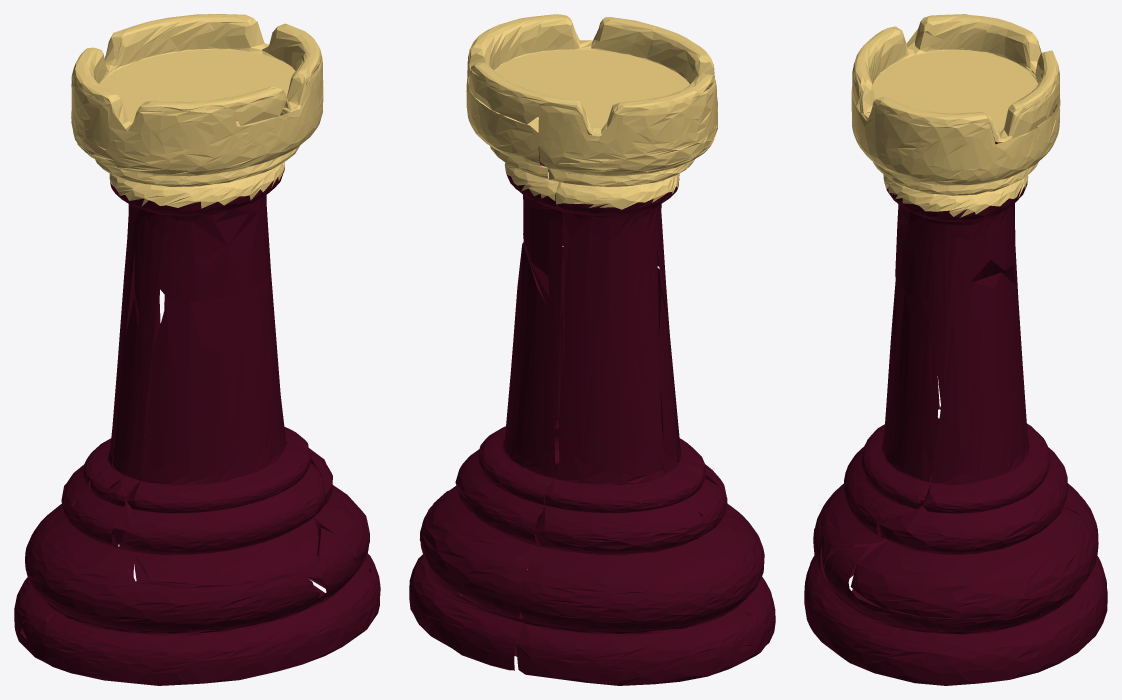
The model's file is gercek3_r_b.glb.
3 renders of one model, left to right at view 1: azimuth 30°, elevation 25°; view 2: azimuth 150°, elevation 25°; view 3: azimuth 270°, elevation 25°, orthographic. The views are drawn at different scales.
Parts seen in each view (by area): view 1: world; view 2: world; view 3: world.
Part boxes in pixels (left/top/right/bottom): world: left=14, top=14, right=380, bottom=685; world: left=409, top=14, right=775, bottom=685; world: left=804, top=14, right=1107, bottom=685.
Size of the model in its own units: 0.5525 by 0.9 by 0.4498.
